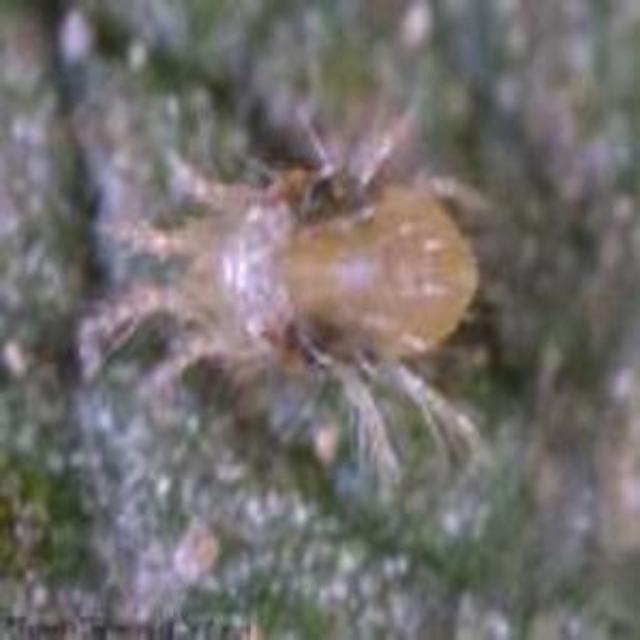spider mite: (95, 104, 531, 502)
